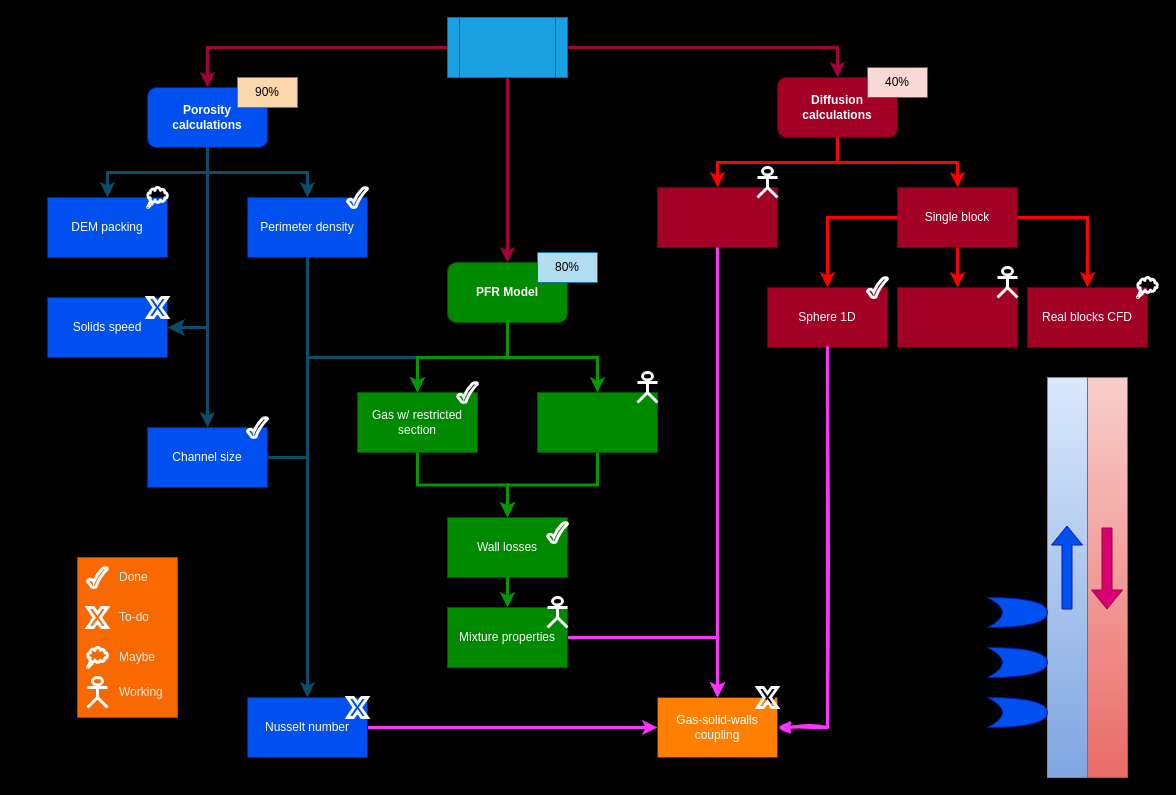
This 1176x795 diagram has some shape labels left out. Each missing label, with the centre of its shape:
Axial dispersion (diffusion-advection): point (717, 217)
Reverberatory vertical PFR: point (507, 47)
Side sources: point (597, 422)
Sphere CFD: point (957, 317)
